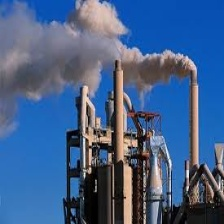smoke: (1, 1, 211, 108)
